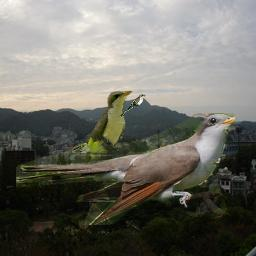Cuckoo: (16, 113, 235, 225), (72, 89, 134, 162), (119, 94, 147, 118)
